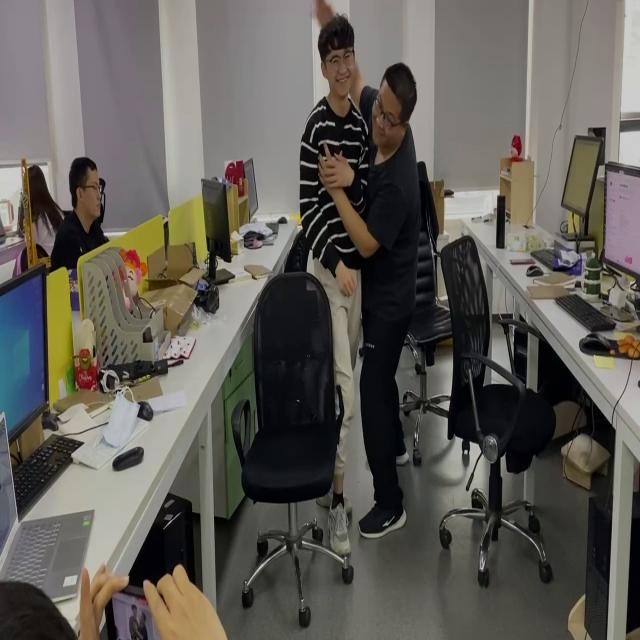fight: (300, 0, 421, 552)
